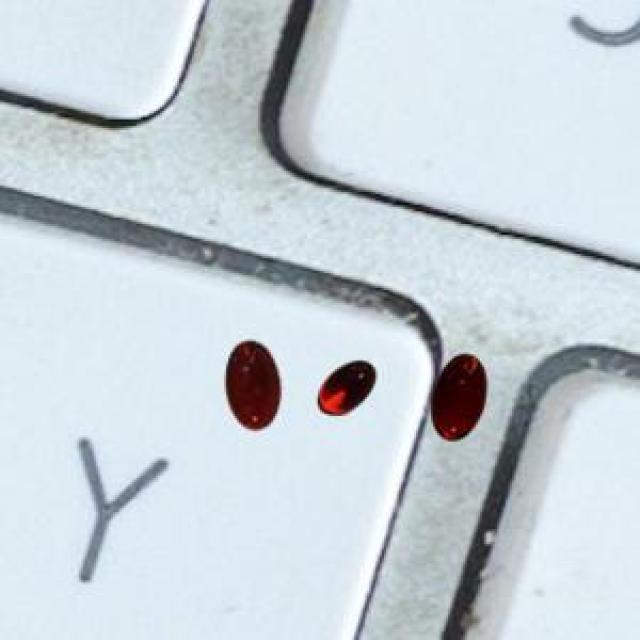Medicol: (427, 343, 496, 455), (215, 334, 288, 434), (307, 355, 385, 422)
